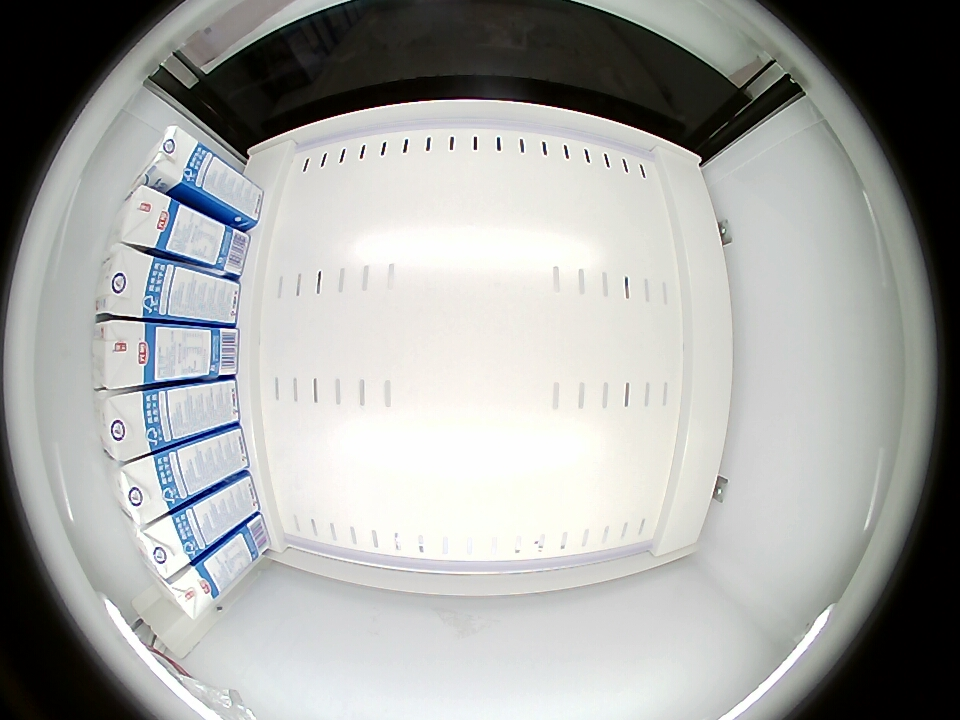niunai: (130, 125, 201, 199), (109, 184, 178, 256), (121, 509, 192, 577), (92, 319, 157, 390), (94, 246, 157, 319), (95, 388, 157, 462), (108, 453, 171, 525), (144, 558, 218, 619)
